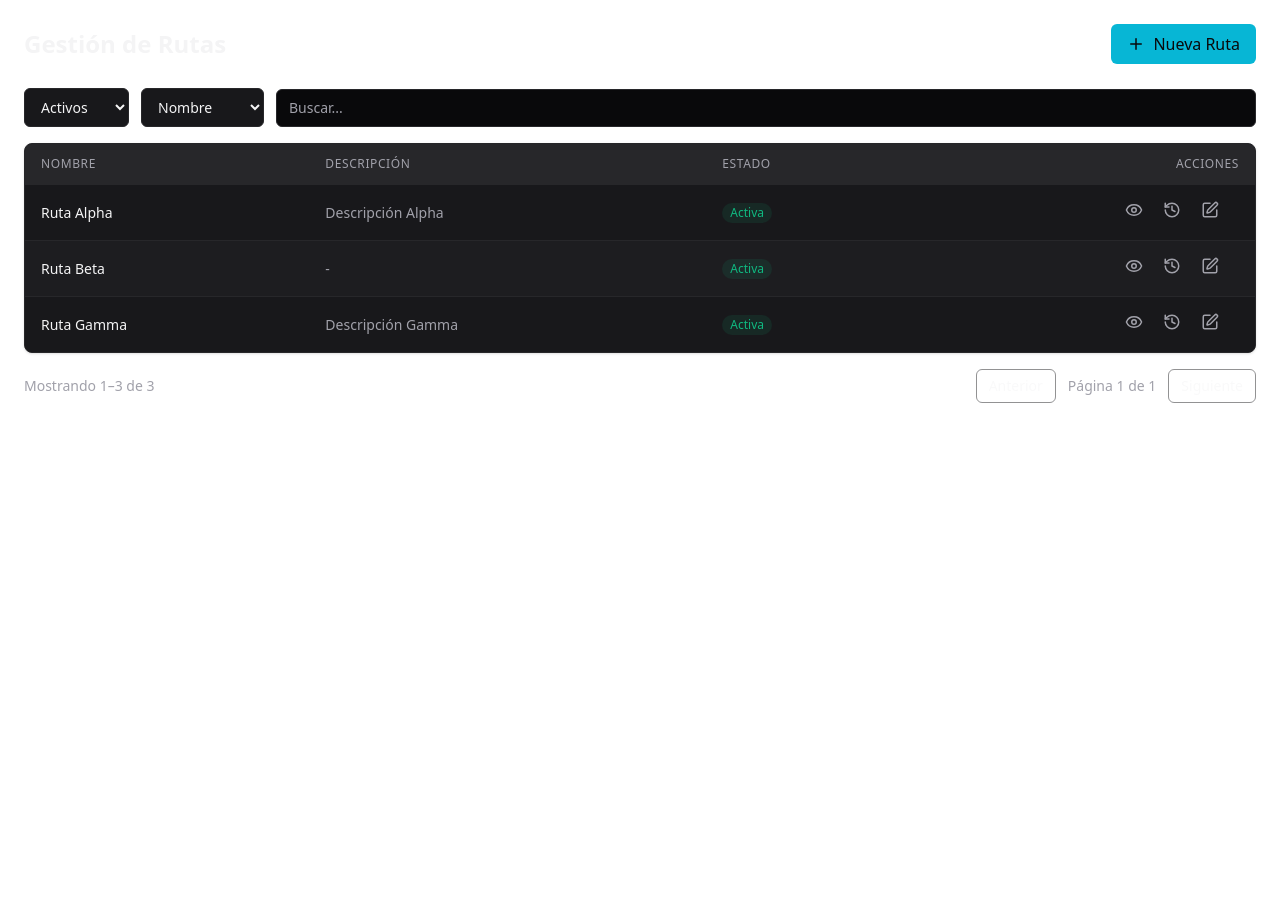
Test: RutasPage detail drawer › shows every field in full without opening the edit form, then jumps to the history
Expected: the text "Ruta Alpha" is shown, [25, 184, 309, 240]
Click the button named "Ver detalle" in the row of "Ruta Alpha": click(1134, 210) [1125, 201, 1143, 219]
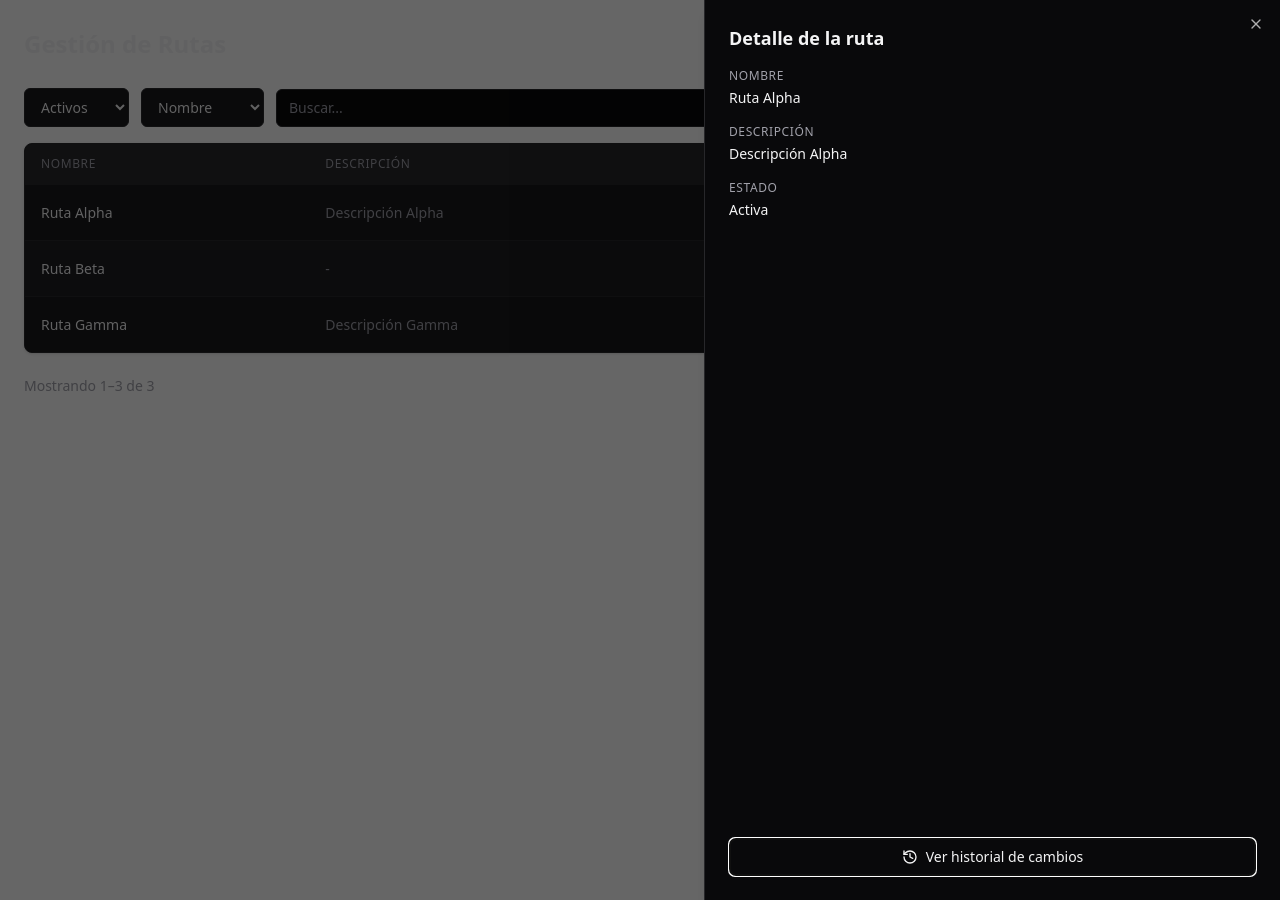
Expected: the heading "Detalle de la ruta" is shown, [729, 26, 884, 50]
Expected: the text "Ruta Alpha" is shown once, [729, 88, 801, 107]
Expected: the text "Descripción Alpha" is shown, [729, 144, 847, 163]
Click the button "Ver historial de cambios": click(992, 857) [729, 838, 1256, 876]
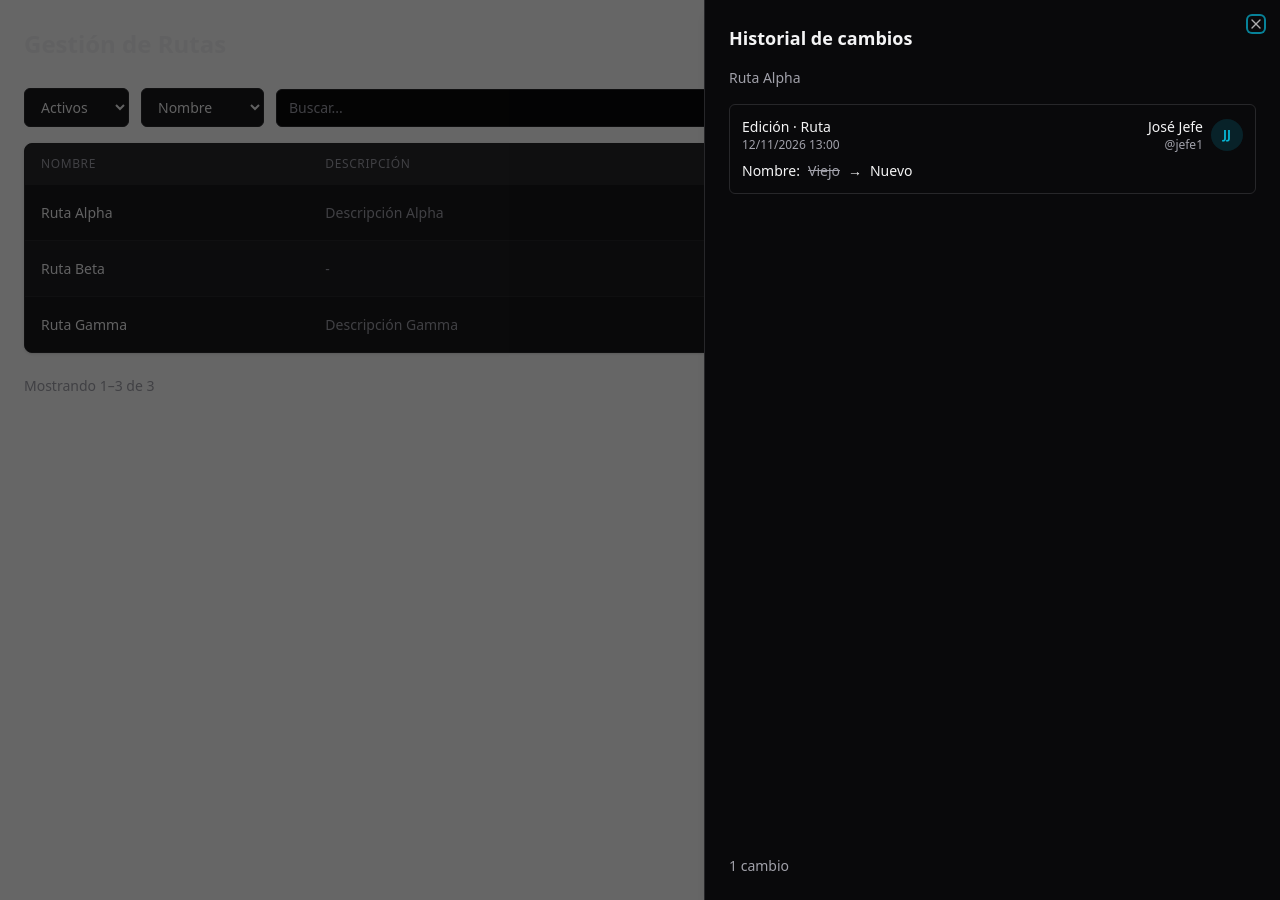
Expected: the text "José Jefe" is shown, [1148, 117, 1203, 137]
